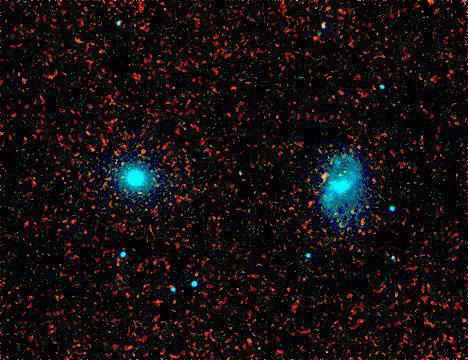star: (308, 160, 338, 190)
